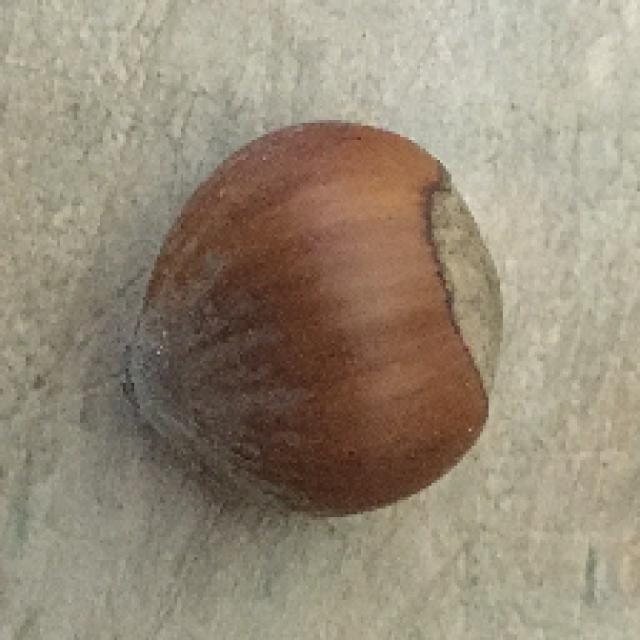qualityHazelnut: (106, 115, 503, 529)
